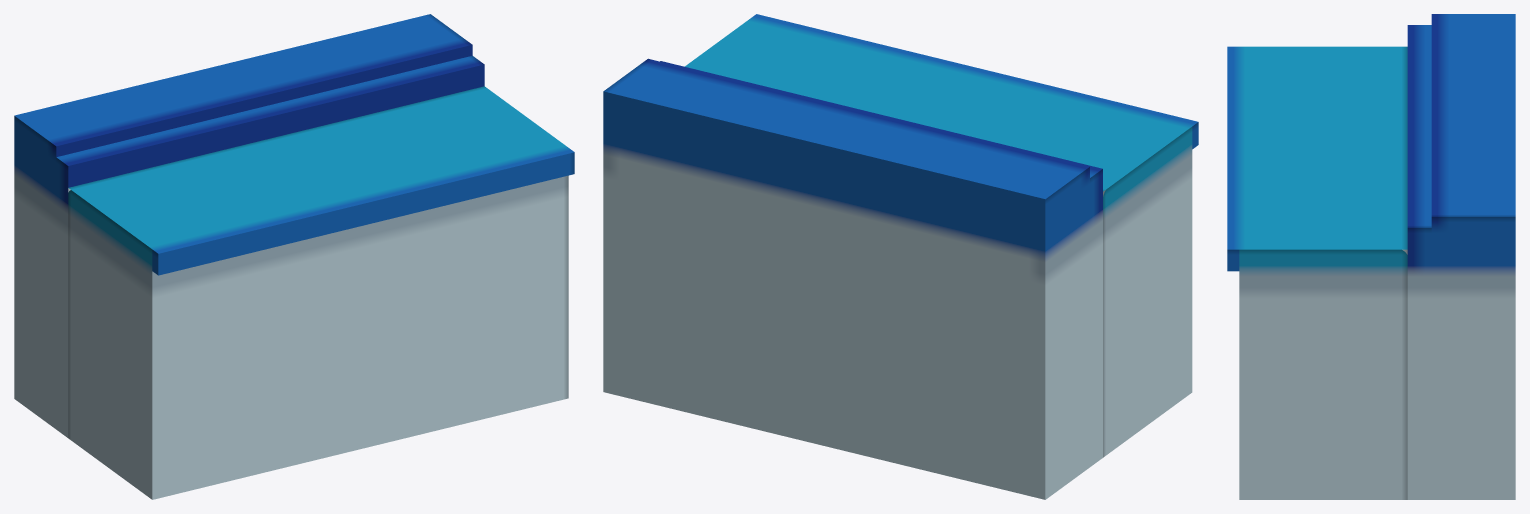
The model's file is Mesa.fbx.
The picture shows the model from 3 angles, left to right: view 1: azimuth 30°, elevation 25°; view 2: azimuth 150°, elevation 25°; view 3: azimuth 270°, elevation 25°; orthographic projection. The views are drawn at different scales.
Visible parts, largest first — view 1: Barra; view 2: Barra; view 3: Barra.
Boxes of the visible parts, bbox=[...] form: Barra: bbox=[14, 14, 574, 499]; Barra: bbox=[603, 14, 1198, 499]; Barra: bbox=[1227, 14, 1515, 499].
Size of the model in its own units: 3.98 by 2.39 by 2.59.
